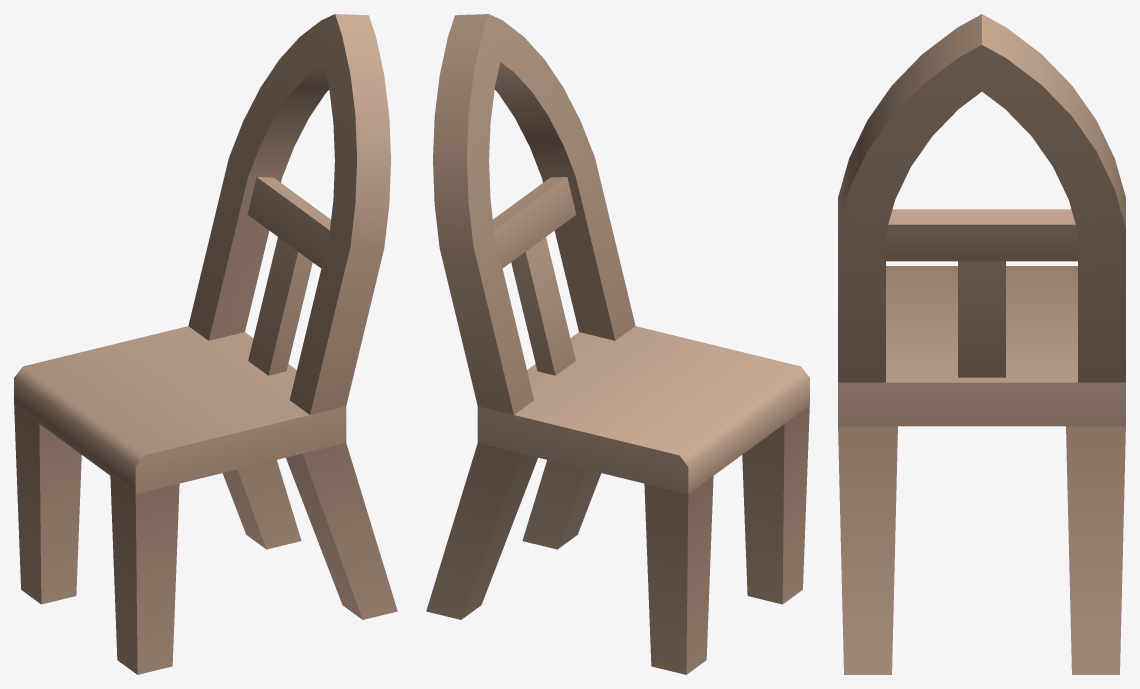
Rendered from wooden-chair-slant-medieval.glb.
The picture shows the model from 3 angles, left to right: view 1: azimuth 30°, elevation 25°; view 2: azimuth 150°, elevation 25°; view 3: azimuth 270°, elevation 25°; orthographic projection. The views are drawn at different scales.
Visible parts, largest first — view 1: wooden-chair-slant-medieval; view 2: wooden-chair-slant-medieval; view 3: wooden-chair-slant-medieval.
Boxes of the visible parts, x1=… form: wooden-chair-slant-medieval: x1=14, y1=14, x2=397, y2=674; wooden-chair-slant-medieval: x1=426, y1=14, x2=809, y2=674; wooden-chair-slant-medieval: x1=838, y1=14, x2=1125, y2=674.
Bounding box in the file's own units: 0.5028 × 0.9083 × 0.36.
